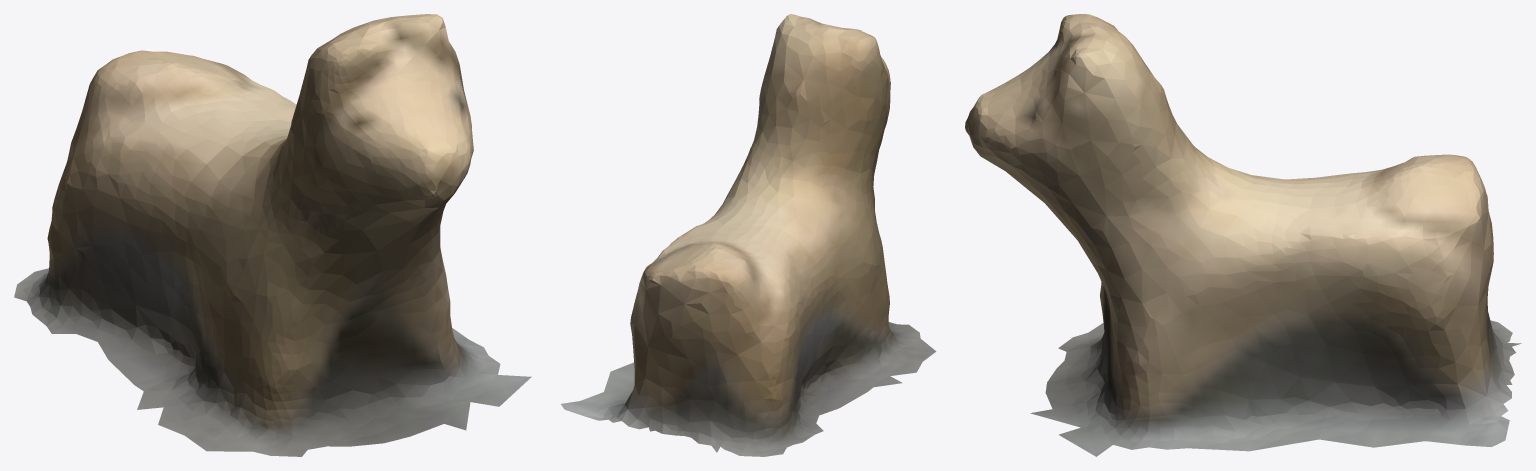
The model's file is inugatadoseihin.glb.
3 renders of one model, left to right at view 1: azimuth 30°, elevation 25°; view 2: azimuth 150°, elevation 25°; view 3: azimuth 270°, elevation 25°, orthographic. The views are drawn at different scales.
Visible parts, largest first — view 1: mesh; view 2: mesh; view 3: mesh.
Boxes of the visible parts, x1,y1,x2,y2 form: mesh: (14,14,531,456); mesh: (561,14,936,456); mesh: (965,14,1521,456).
Bounding box in the file's own units: 0.0308 × 0.0354 × 0.0492.
Materials: 1 (1 with a texture image).
